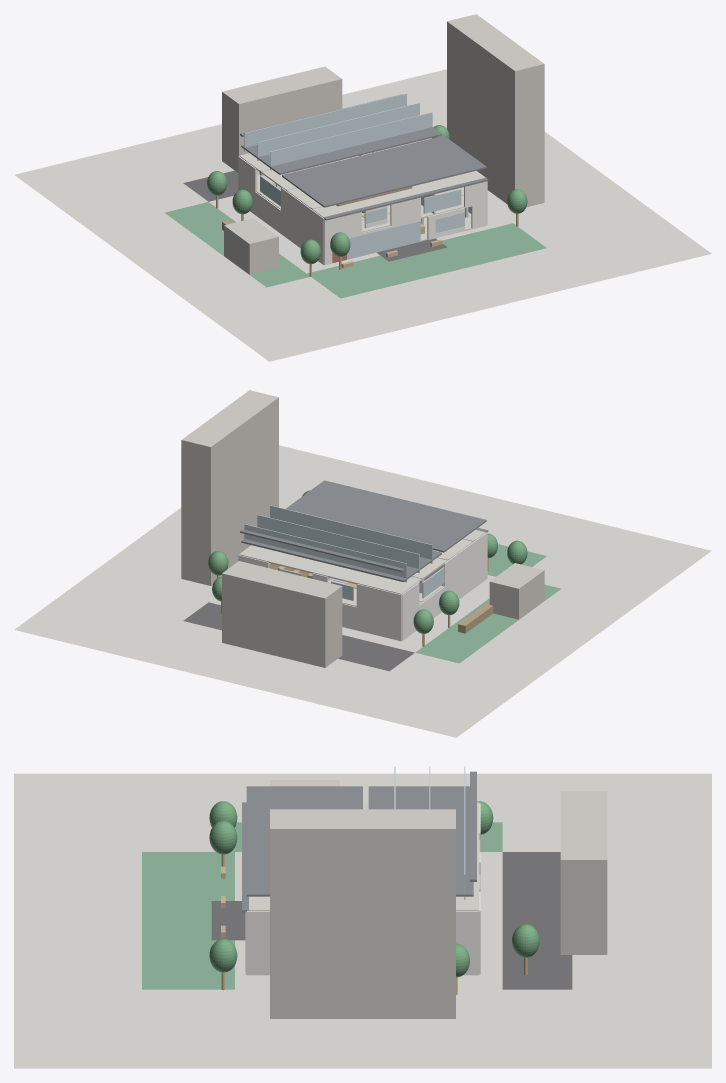
3 views of the same model, one above another, from view 1: azimuth 30°, elevation 25°; view 2: azimuth 150°, elevation 25°; view 3: azimuth 270°, elevation 25° (orthographic). The views are drawn at different scales.
Visible parts, largest first — view 1: Site_Ground, Site_Neighbor_E_residential, Roof_SouthSlope, Site_Lawn_S, Site_Neighbor_N_communityctr, Site_Lawn_W, Roof_Tooth_Skylight_0, Site_Neighbor_W_parkstn, Roof_Tooth_Skylight_2, Roof_Tooth_Skylight_1, Roof_Tooth_Opaque_0, Slab_Roof_south (+9 smaller); view 2: Site_Ground, Site_Neighbor_E_residential, Site_Neighbor_N_communityctr, Roof_SouthSlope, Site_Lawn_W, Site_Neighbor_W_parkstn, Slab_Roof_north, Site_Driveway_N, Roof_Tooth_Skylight_0, Roof_Tooth_Skylight_1, Roof_Tooth_Skylight_2, Wall_F1_N_W (+6 smaller); view 3: Site_Ground, Site_Neighbor_E_residential, Site_Lawn_S, Site_Neighbor_N_communityctr, Site_Driveway_N, Roof_SouthSlope, Roof_Tooth_Opaque_2, Site_Path_Entry, Roof_Tooth_Opaque_1, Roof_Tooth_Opaque_0, Wall_F2_E_S, Wall_F2_E_N (+10 smaller).
Boxes of the visible parts, x1,y1,x2,y2 form: Site_Ground: [14, 69, 711, 361]; Site_Neighbor_E_residential: [447, 14, 544, 207]; Roof_SouthSlope: [282, 135, 486, 207]; Site_Lawn_S: [307, 223, 546, 298]; Site_Neighbor_N_communityctr: [222, 66, 342, 172]; Site_Lawn_W: [165, 202, 309, 287]; Roof_Tooth_Skylight_0: [270, 112, 432, 170]; Site_Neighbor_W_parkstn: [224, 218, 278, 274]; Roof_Tooth_Skylight_2: [244, 93, 406, 151]; Roof_Tooth_Skylight_1: [257, 103, 419, 160]; Roof_Tooth_Opaque_0: [267, 127, 441, 174]; Slab_Roof_south: [287, 171, 485, 217]; Site_Ground: [14, 445, 711, 737]; Site_Neighbor_E_residential: [181, 390, 278, 585]; Site_Neighbor_N_communityctr: [222, 561, 342, 667]; Roof_SouthSlope: [286, 480, 486, 552]; Site_Lawn_W: [415, 584, 560, 663]; Site_Neighbor_W_parkstn: [489, 563, 544, 619]; Slab_Roof_north: [239, 545, 426, 594]; Site_Driveway_N: [183, 602, 414, 671]; Roof_Tooth_Skylight_0: [270, 505, 432, 563]; Roof_Tooth_Skylight_1: [257, 514, 419, 572]; Roof_Tooth_Skylight_2: [244, 524, 406, 582]; Wall_F1_N_W: [342, 603, 401, 641]; Site_Ground: [14, 773, 711, 1068]; Site_Neighbor_E_residential: [270, 809, 455, 1018]; Site_Lawn_S: [142, 852, 234, 989]; Site_Neighbor_N_communityctr: [560, 791, 607, 954]; Site_Driveway_N: [502, 852, 572, 989]; Roof_SouthSlope: [246, 786, 362, 896]; Roof_Tooth_Opaque_2: [438, 786, 473, 896]; Site_Path_Entry: [211, 901, 245, 940]; Roof_Tooth_Opaque_1: [403, 786, 438, 809]; Roof_Tooth_Opaque_0: [368, 786, 403, 809]; Wall_F2_E_S: [246, 911, 269, 943]; Wall_F2_E_N: [456, 911, 479, 943].
Bounding box in the file's own units: 60 × 18.1 × 60.
